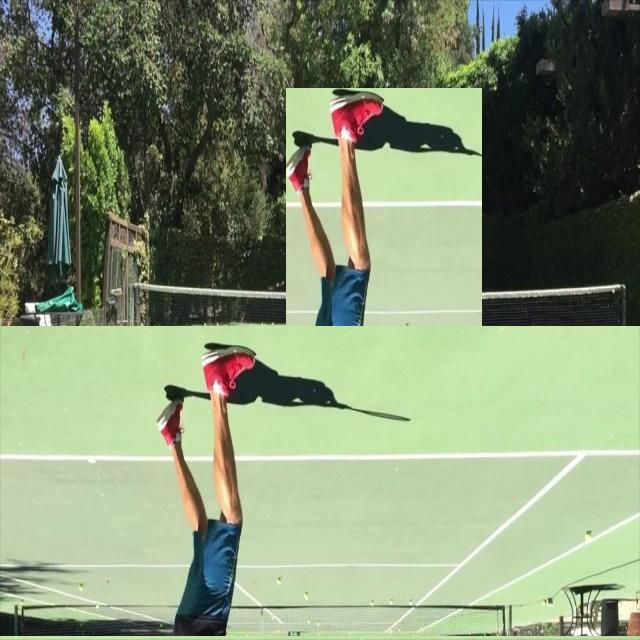court: (0, 326, 640, 636)
net: (128, 273, 632, 365)
player: (286, 88, 482, 620)
